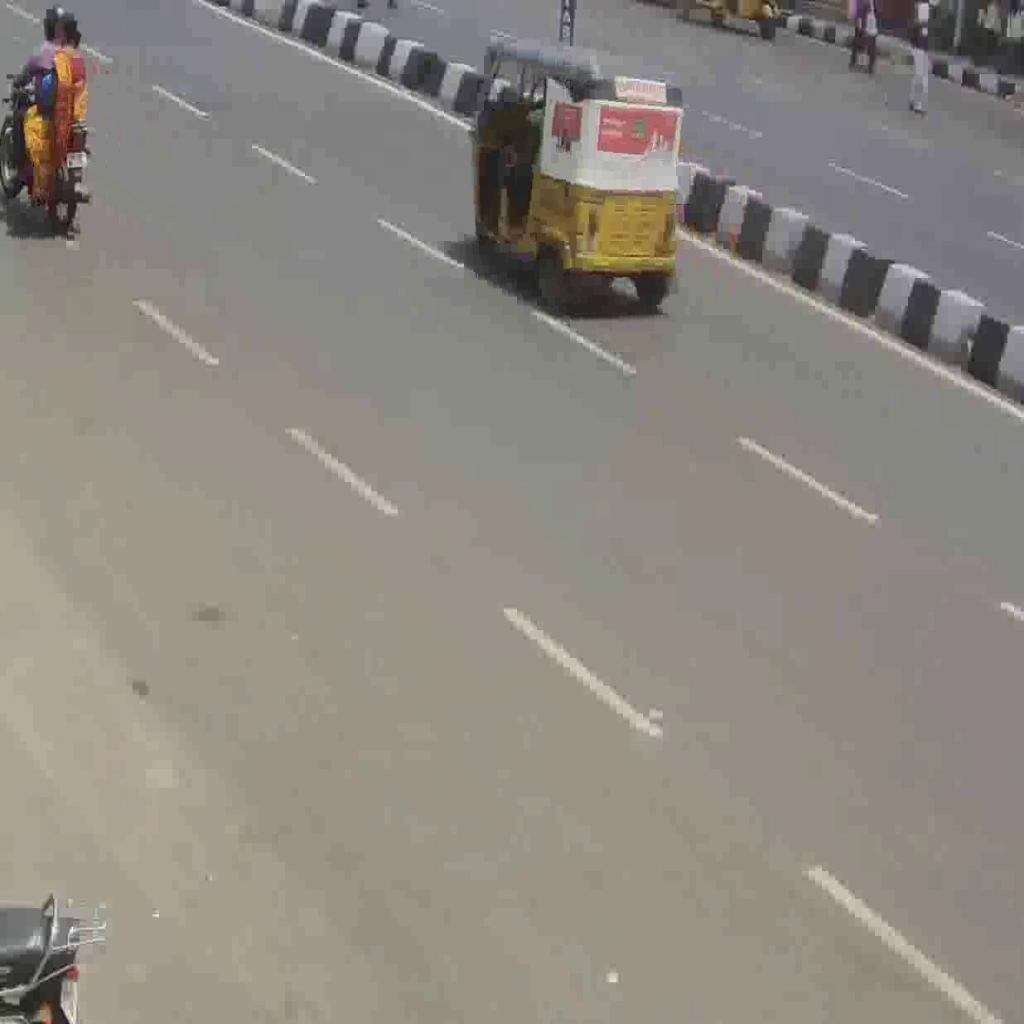helmet: (0, 78, 97, 237)
